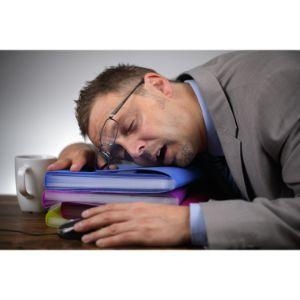sleep: (76, 49, 300, 166), (100, 114, 190, 165)
